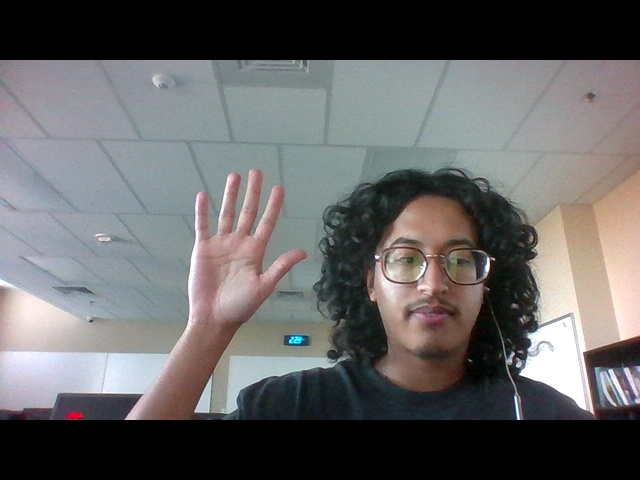hello: (180, 166, 311, 335)
